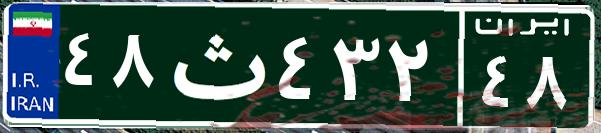2: (385, 28, 445, 110)
3: (330, 28, 385, 110)
4: (273, 28, 330, 110), (57, 26, 110, 107), (475, 38, 525, 113)
8: (110, 28, 158, 105), (525, 38, 570, 115)
ث: (158, 15, 273, 115)
